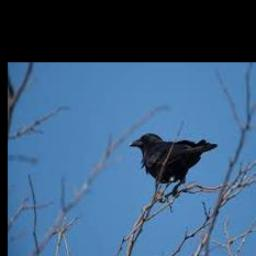Crow: (127, 132, 216, 197)
